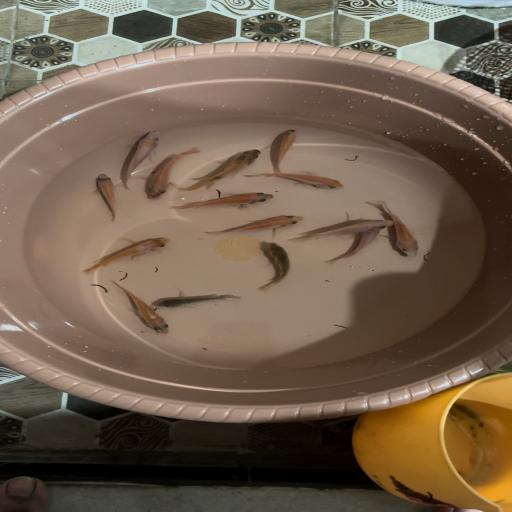nila: (72, 234, 180, 276), (97, 281, 177, 334), (179, 148, 266, 192), (137, 142, 202, 200), (375, 200, 429, 265), (152, 284, 248, 315), (108, 126, 165, 178), (170, 191, 286, 215), (297, 211, 383, 243), (252, 165, 352, 191), (250, 239, 297, 291), (326, 230, 386, 270), (204, 214, 311, 236), (86, 170, 128, 224), (264, 126, 306, 173)
